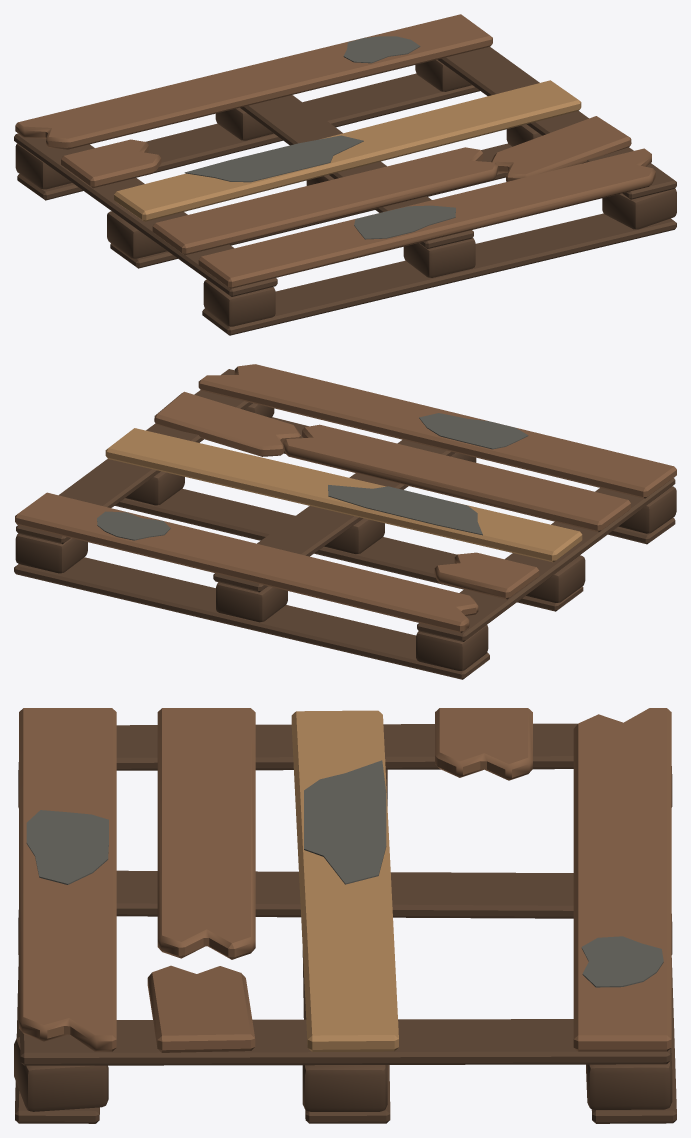
File: pallet.glb
3 views of the same model, one above another, from view 1: azimuth 30°, elevation 25°; view 2: azimuth 150°, elevation 25°; view 3: azimuth 270°, elevation 25° (orthographic). The views are drawn at different scales.
Parts seen in each view (by area): view 1: pallet; view 2: pallet; view 3: pallet.
Boxes of the visible parts, bbox=[...] form: pallet: bbox=[14, 14, 676, 335]; pallet: bbox=[14, 364, 676, 679]; pallet: bbox=[14, 708, 676, 1123].
Size of the model in its own units: 1.22 by 0.1525 by 1.02.
